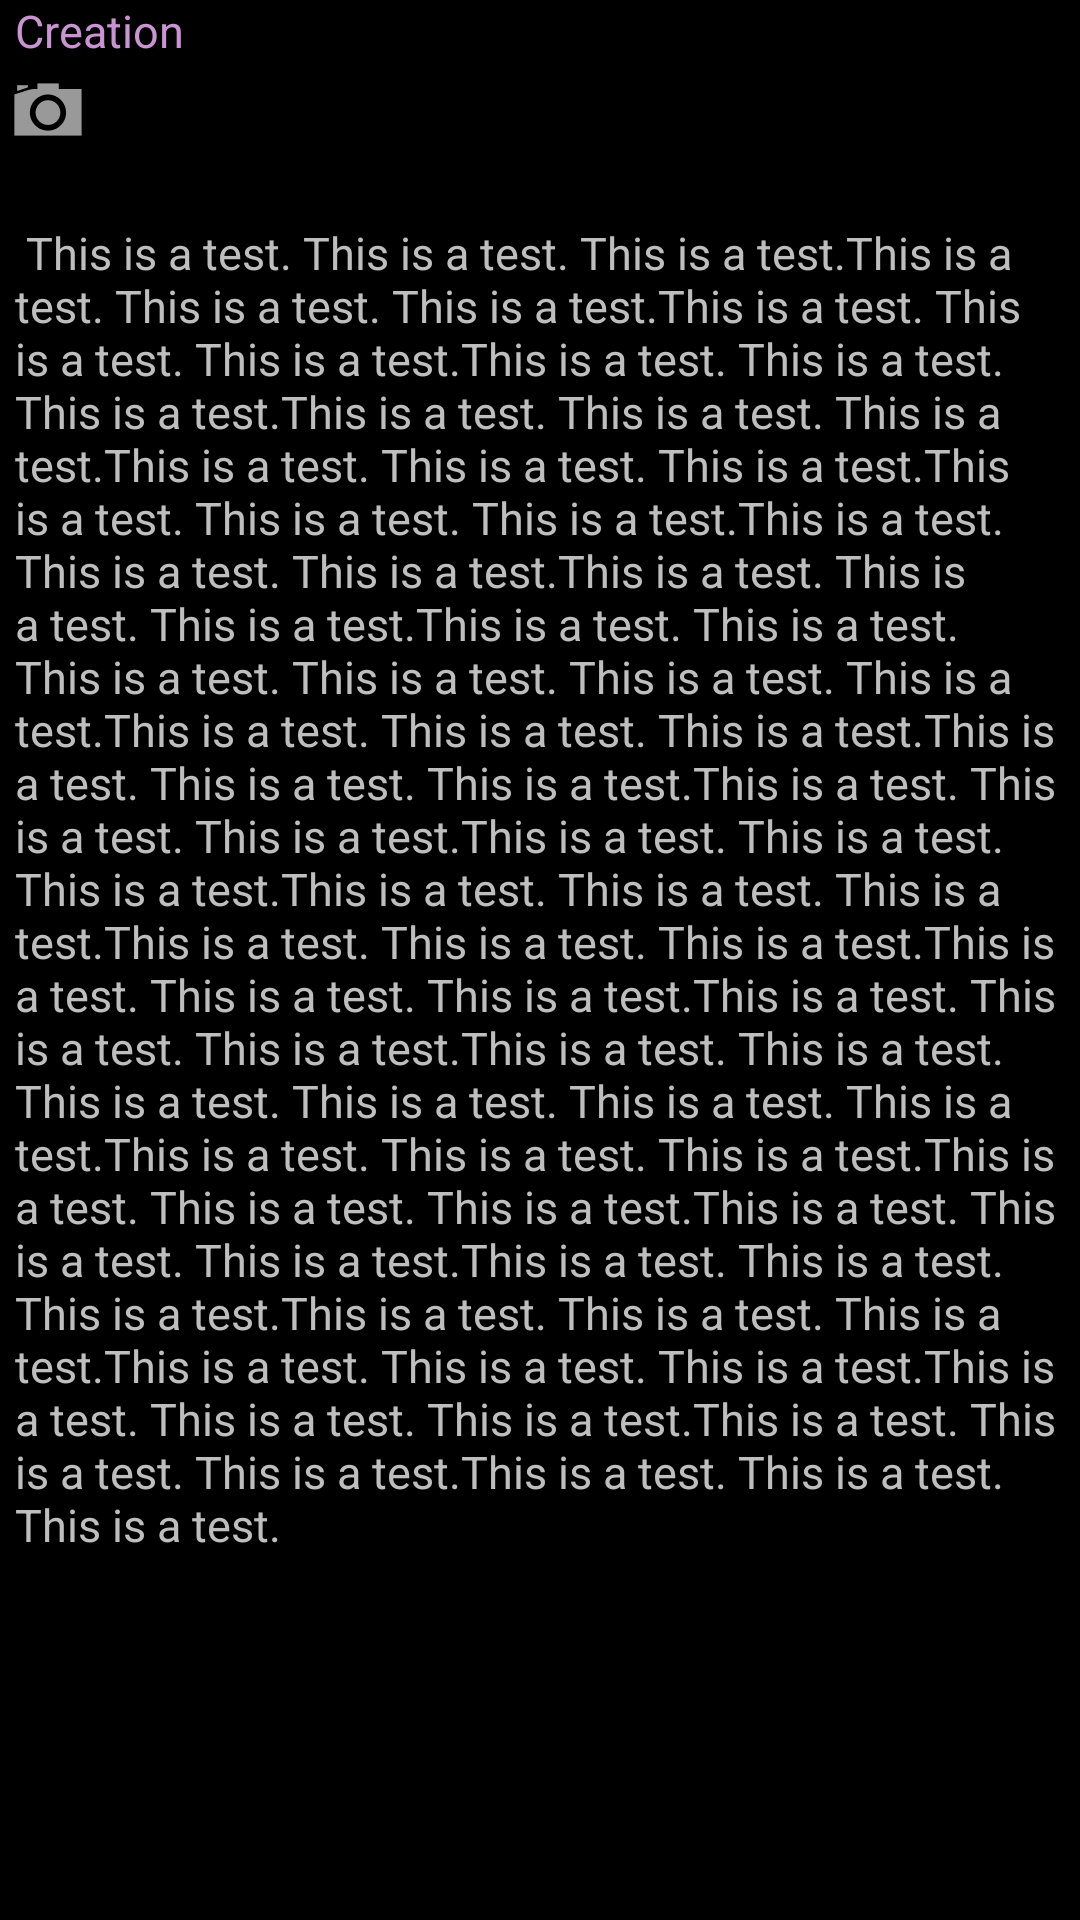

Icon click points for this 1080×1920 phone screenshot, format [x,y]:
camera: [48,109]
